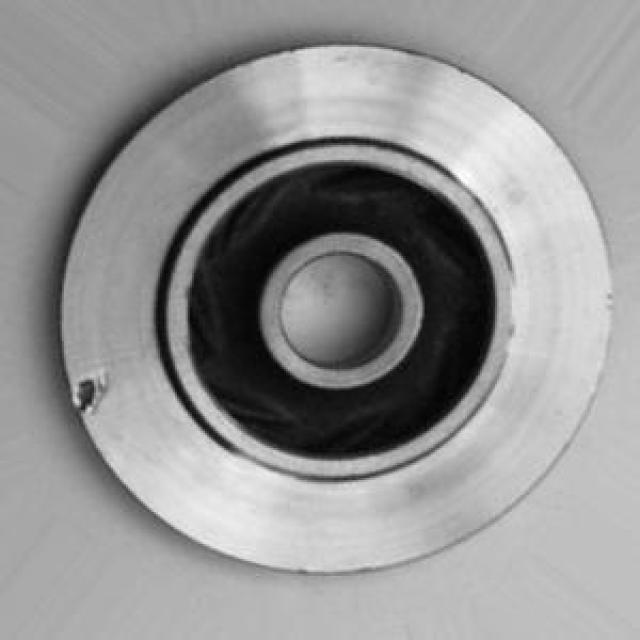Defect: (73, 363, 113, 422)
